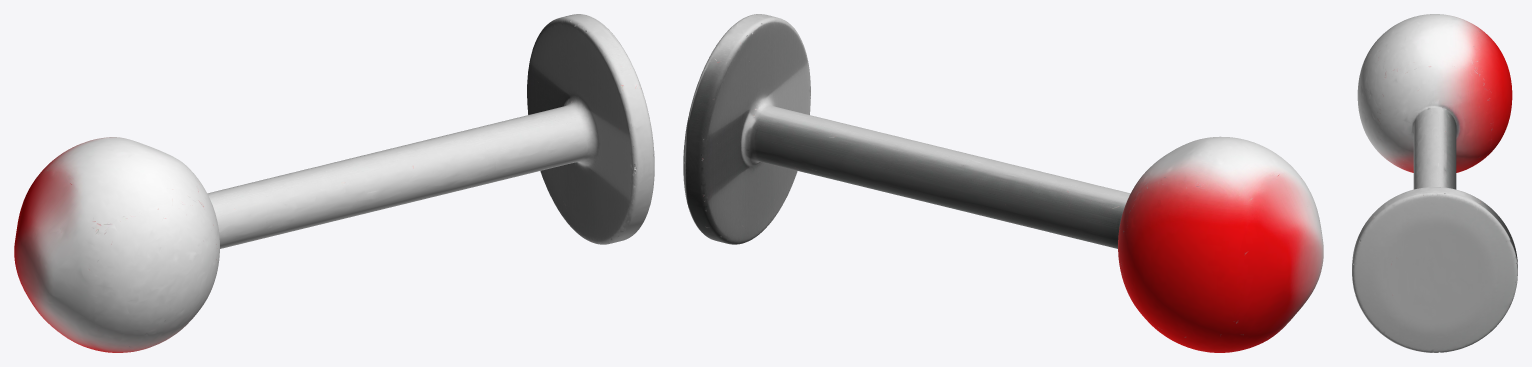
The model's file is silver_ball.glb.
3 renders of one model, left to right at view 1: azimuth 30°, elevation 25°; view 2: azimuth 150°, elevation 25°; view 3: azimuth 270°, elevation 25°, orthographic. The views are drawn at different scales.
Parts seen in each view (by area): view 1: Mesh_0; view 2: Mesh_0; view 3: Mesh_0.
Part boxes in pixels (x1,y1,x2,y2): Mesh_0: (14,14,654,352); Mesh_0: (683,14,1323,352); Mesh_0: (1352,14,1517,352).
Bounding box in the file's own units: 1.91 × 0.6721 × 0.6294.
Materials: 1 (1 with a texture image).
